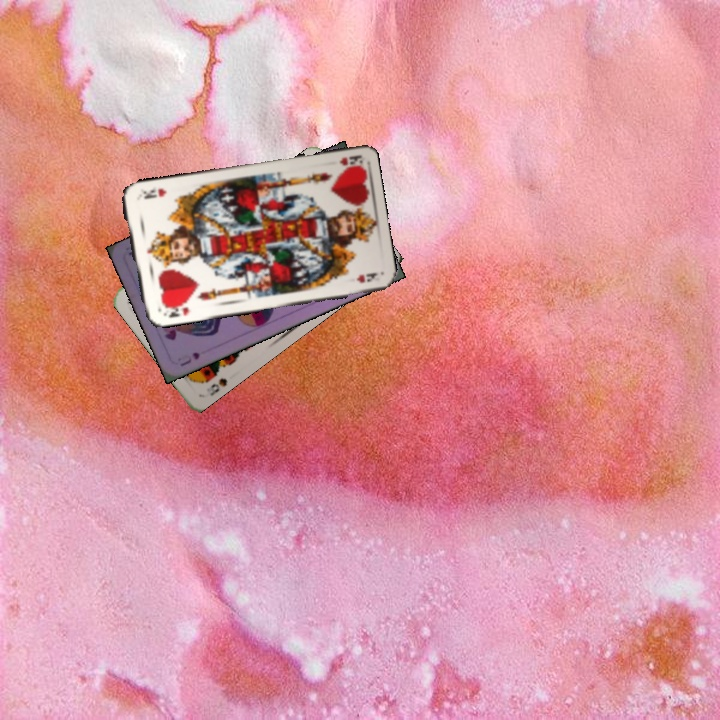HK: (159, 298, 192, 320), (336, 151, 362, 170)
S8: (206, 374, 230, 399)
SU: (176, 348, 202, 369)
